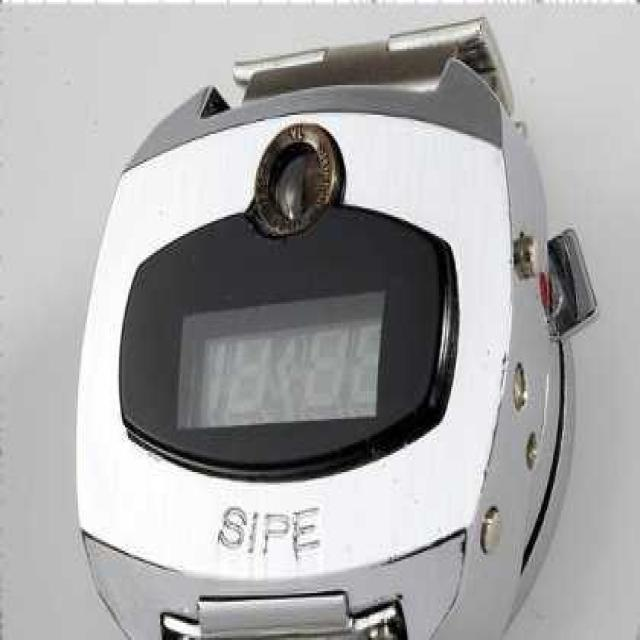watch: (121, 215, 454, 470)
